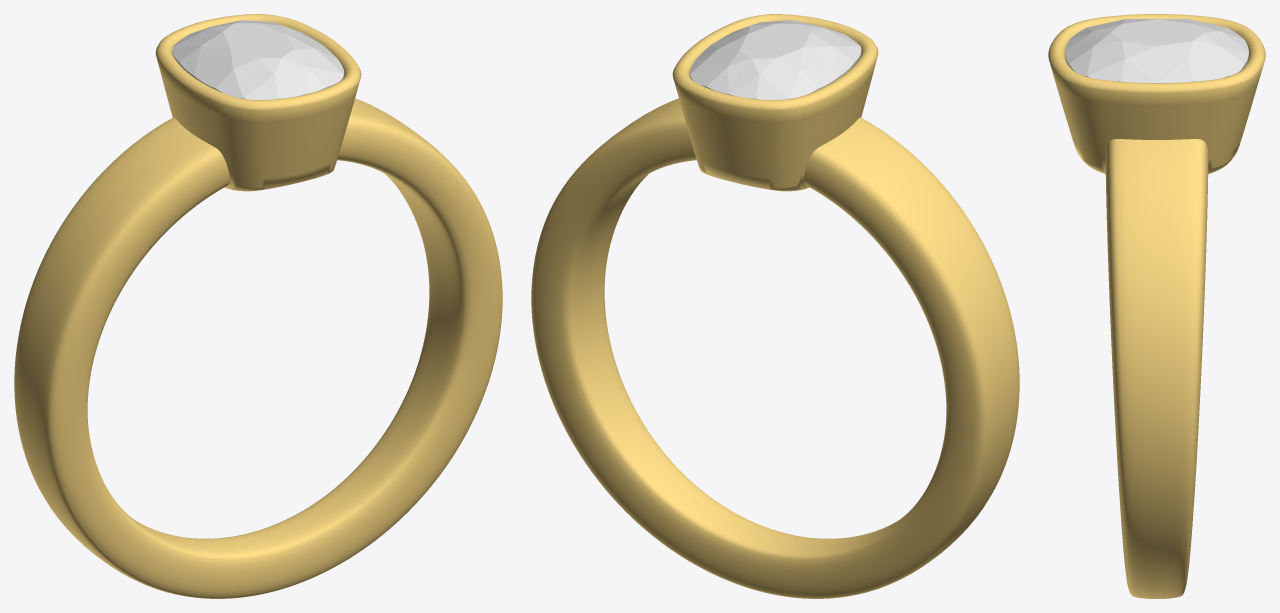
Rendered from diamond-cushion-yellowgold-bezelset-straighttaperedband-nosidestones.glb.
The picture shows the model from 3 angles, left to right: view 1: azimuth 30°, elevation 25°; view 2: azimuth 150°, elevation 25°; view 3: azimuth 270°, elevation 25°; orthographic projection.
Visible parts, largest first — view 1: metal.001, stone; view 2: metal.001, stone; view 3: metal.001, stone.
Boxes of the visible parts, box(x1,y1,x2,y2) form: metal.001: box(14, 14, 502, 598); stone: box(172, 20, 344, 99); metal.001: box(531, 14, 1019, 598); stone: box(689, 20, 861, 99); metal.001: box(1048, 14, 1265, 598); stone: box(1065, 19, 1248, 83).
Size of the model in its own units: 20.48 by 23.24 by 8.45.
